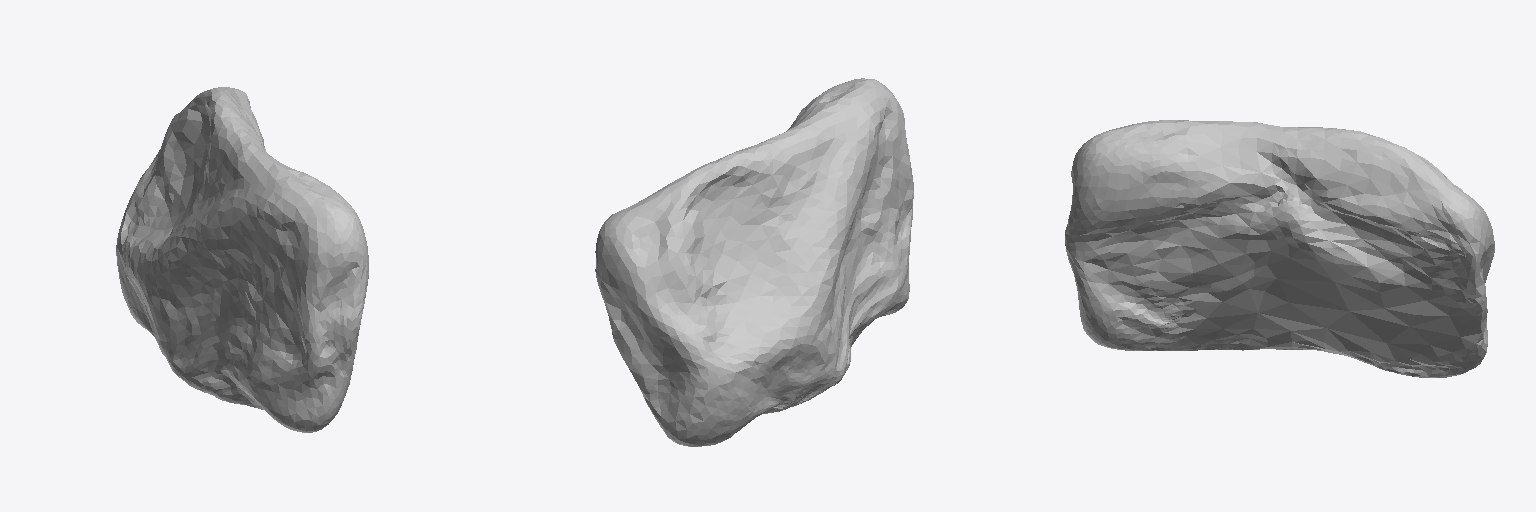
The model's file is travesseiro.obj.
3 views of the same model, side by side, from view 1: azimuth 30°, elevation 25°; view 2: azimuth 150°, elevation 25°; view 3: azimuth 270°, elevation 25° (orthographic).
Visible parts, largest first — view 1: Cube.001; view 2: Cube.001; view 3: Cube.001.
Boxes of the visible parts, x1,y1,x2,y2 form: Cube.001: [116, 87, 368, 432]; Cube.001: [595, 78, 913, 446]; Cube.001: [1065, 120, 1494, 377].
Size of the model in its own units: 0.6385 by 0.9686 by 1.51.